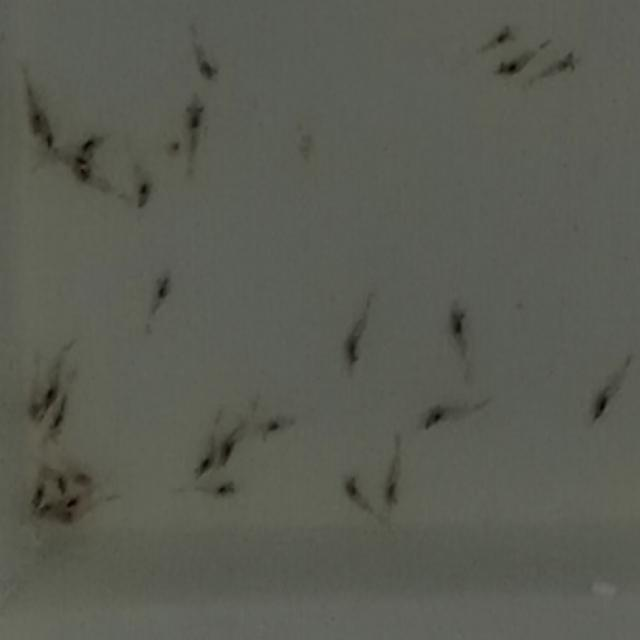shrimp-seed: (445, 301, 477, 351), (584, 378, 616, 426), (336, 328, 368, 376), (146, 264, 177, 308), (188, 46, 224, 82), (42, 396, 72, 439), (418, 398, 452, 435), (258, 410, 288, 450), (180, 94, 210, 132), (130, 170, 154, 216), (490, 16, 520, 52), (550, 49, 582, 80), (339, 470, 364, 504), (382, 478, 408, 510), (492, 54, 526, 78), (215, 438, 239, 472), (25, 394, 48, 428), (26, 98, 44, 136), (212, 475, 237, 501), (79, 127, 101, 156), (21, 478, 46, 503), (40, 112, 56, 150), (75, 169, 97, 196), (73, 462, 97, 486), (41, 379, 60, 408), (48, 472, 67, 499), (195, 448, 212, 478), (57, 507, 79, 530), (40, 496, 56, 522), (61, 492, 79, 509)
